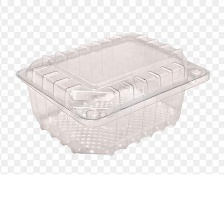plastic_box: (9, 24, 213, 159)
